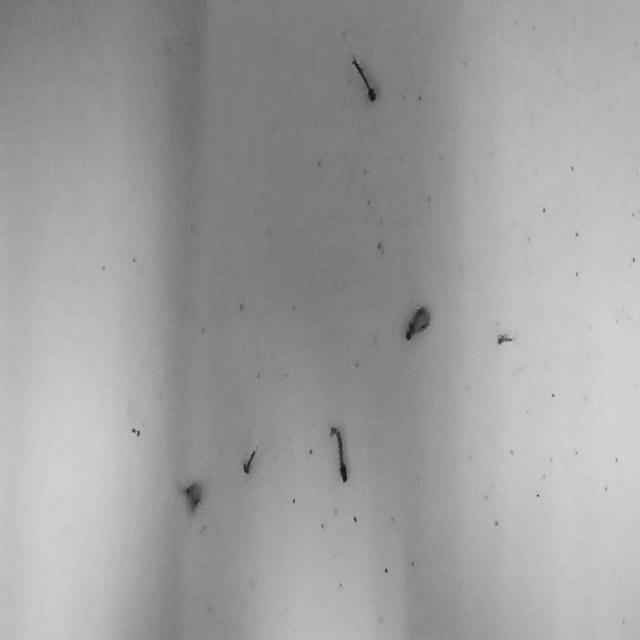larvas: (350, 56, 376, 100), (330, 426, 348, 482), (406, 306, 430, 340), (183, 482, 201, 508), (242, 444, 258, 472), (496, 332, 512, 344)
